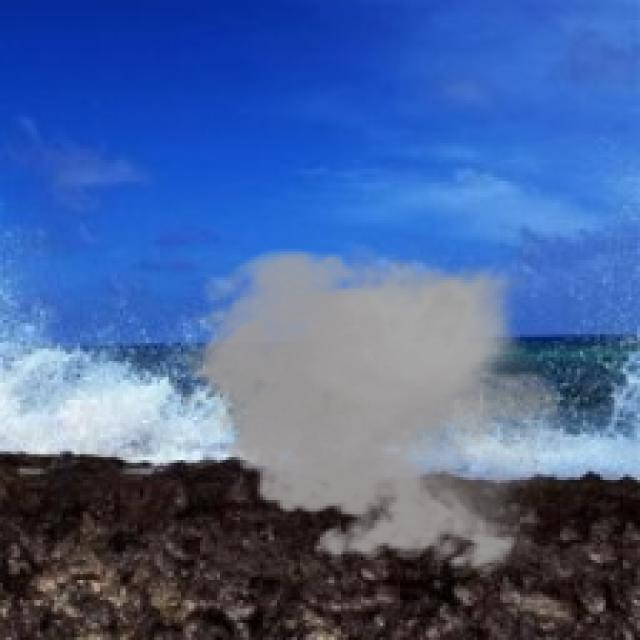smoke: (171, 237, 583, 580)
